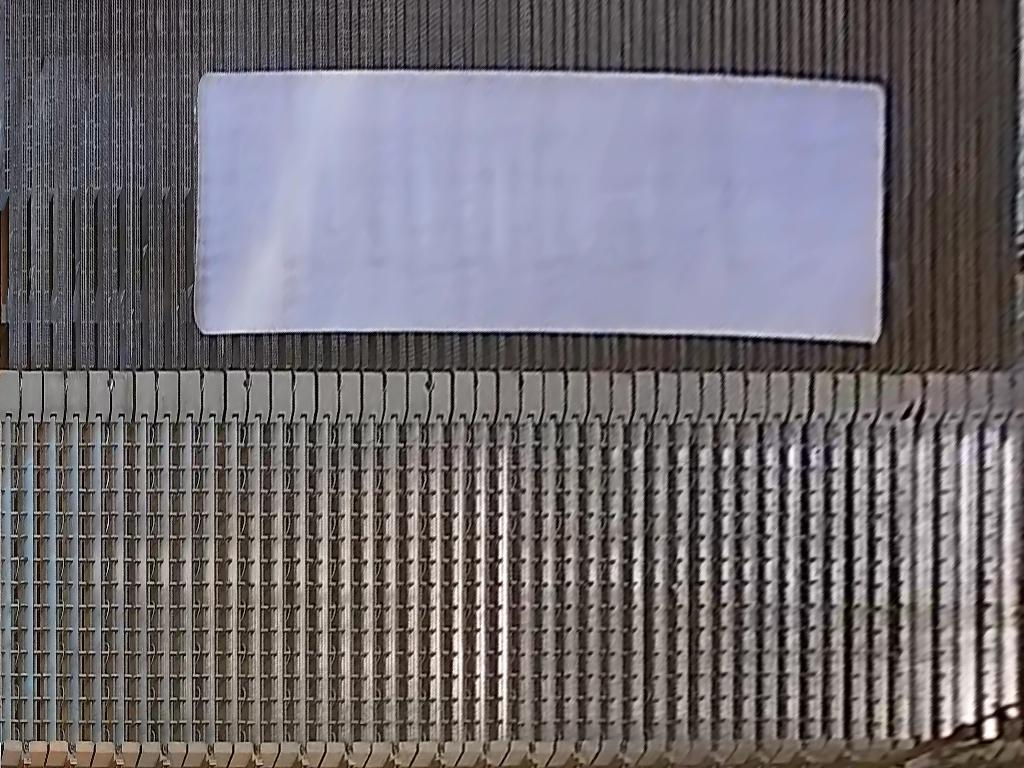steel: (195, 71, 882, 343)
